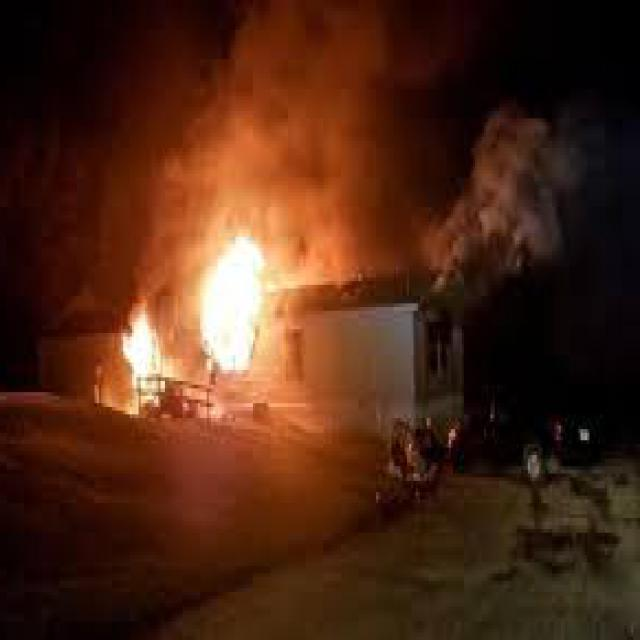Fire: (88, 242, 309, 420)
Smoke: (5, 13, 447, 331), (390, 84, 640, 316)
